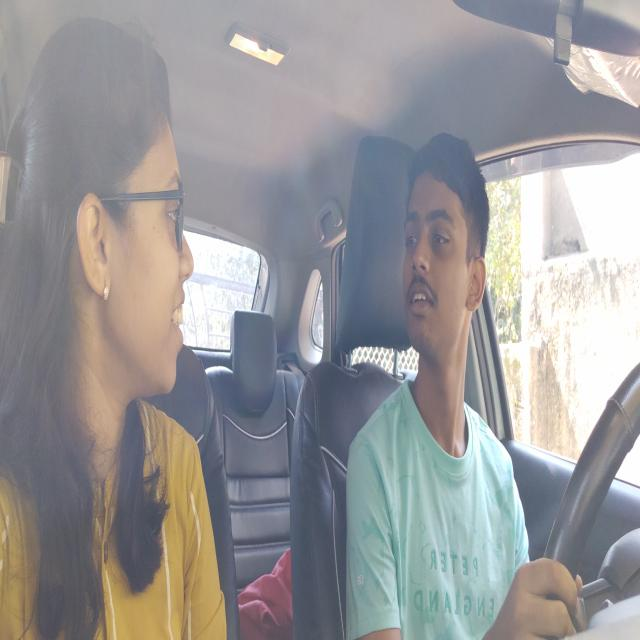LeftRight: (393, 111, 491, 387)
person: (16, 22, 204, 443)
talking: (168, 290, 195, 350), (406, 283, 438, 324)
